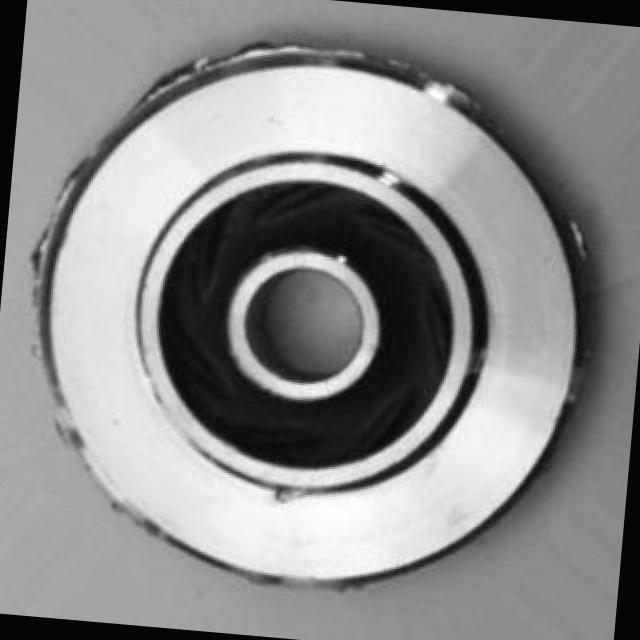Defect: (178, 34, 308, 75)
